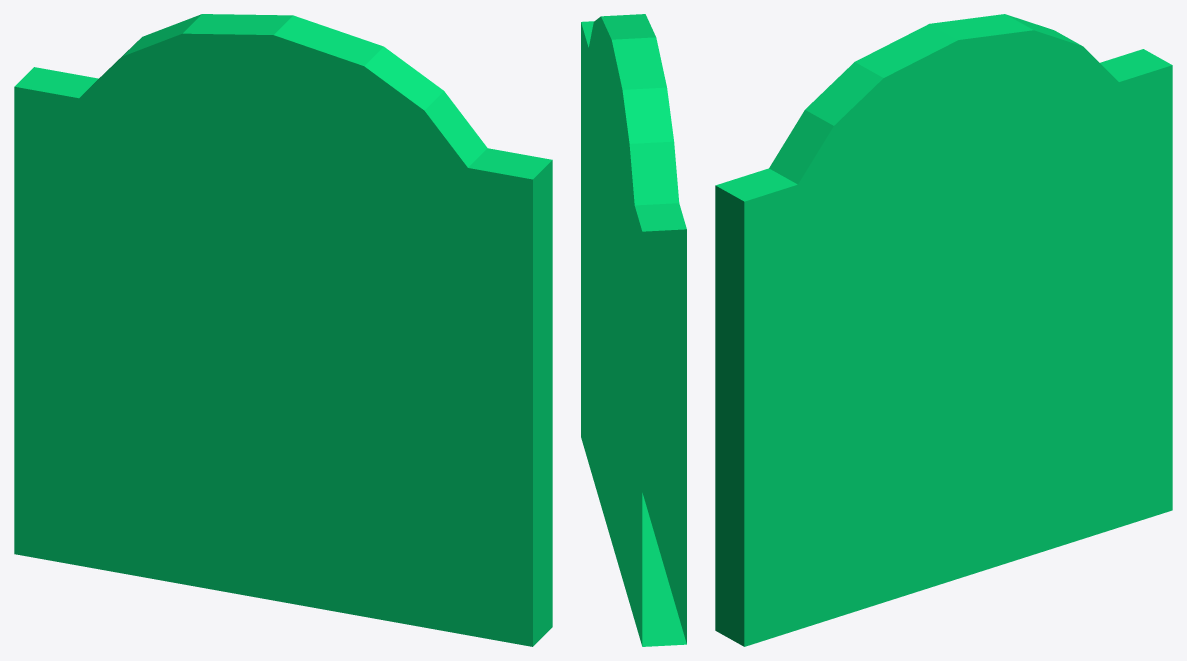
The model's file is Sign1.fbx.
The picture shows the model from 3 angles, left to right: view 1: azimuth 30°, elevation 25°; view 2: azimuth 150°, elevation 25°; view 3: azimuth 270°, elevation 25°; orthographic projection. The views are drawn at different scales.
Visible parts, largest first — view 1: Cube.131; view 2: Cube.131; view 3: Cube.131.
Part boxes in pixels (x1,y1,x2,y2): Cube.131: (14, 14, 552, 646); Cube.131: (581, 14, 686, 646); Cube.131: (715, 14, 1172, 646).
Size of the model in its own units: 241 by 396 by 304.
